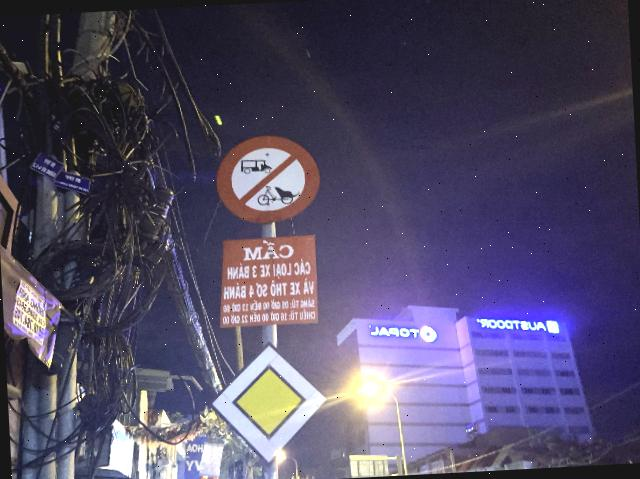bat-dau-duong-uu-tien: (206, 338, 332, 470)
cam-xe-3-banh-xe-tho-so-4-banh: (215, 131, 322, 225)
